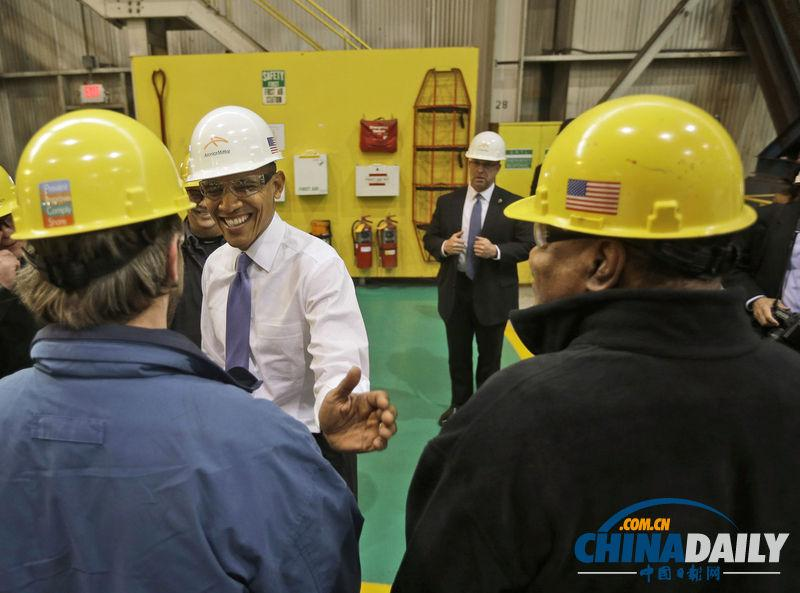helmet: (507, 96, 761, 231), (13, 109, 201, 244), (189, 111, 280, 180), (467, 130, 512, 165)
